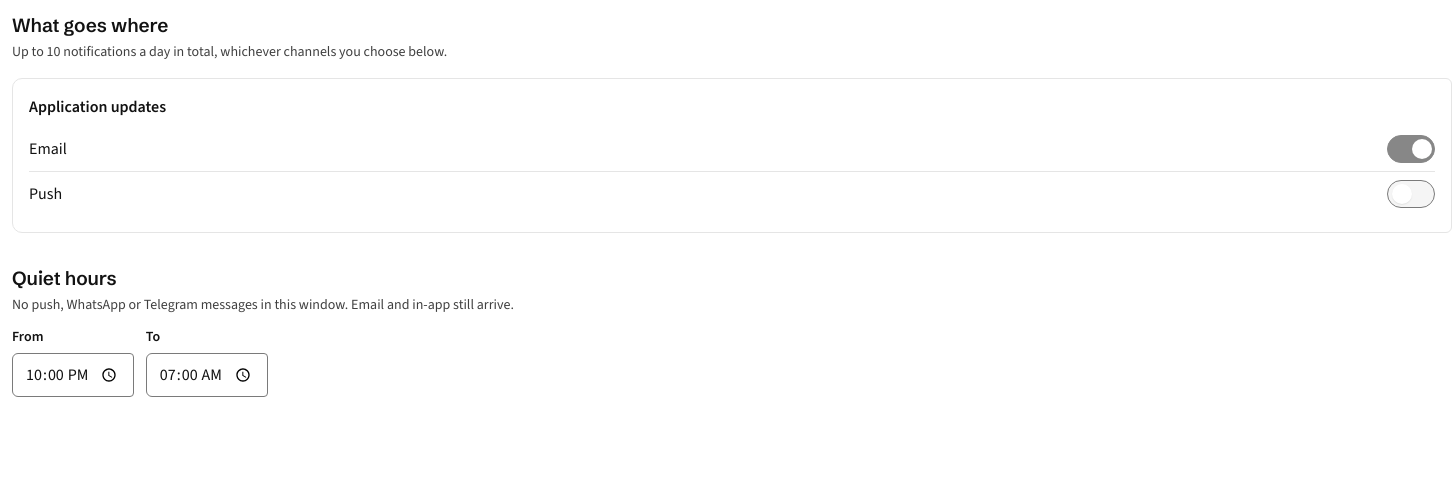
Test case: NotificationsPanel › shows an error when saving a preference fails
What coordinates should you click on to do the following:
click the 2nd switch named "Push"
I would click on:
 (1411, 194)
Its box is [1387,180,1435,208].
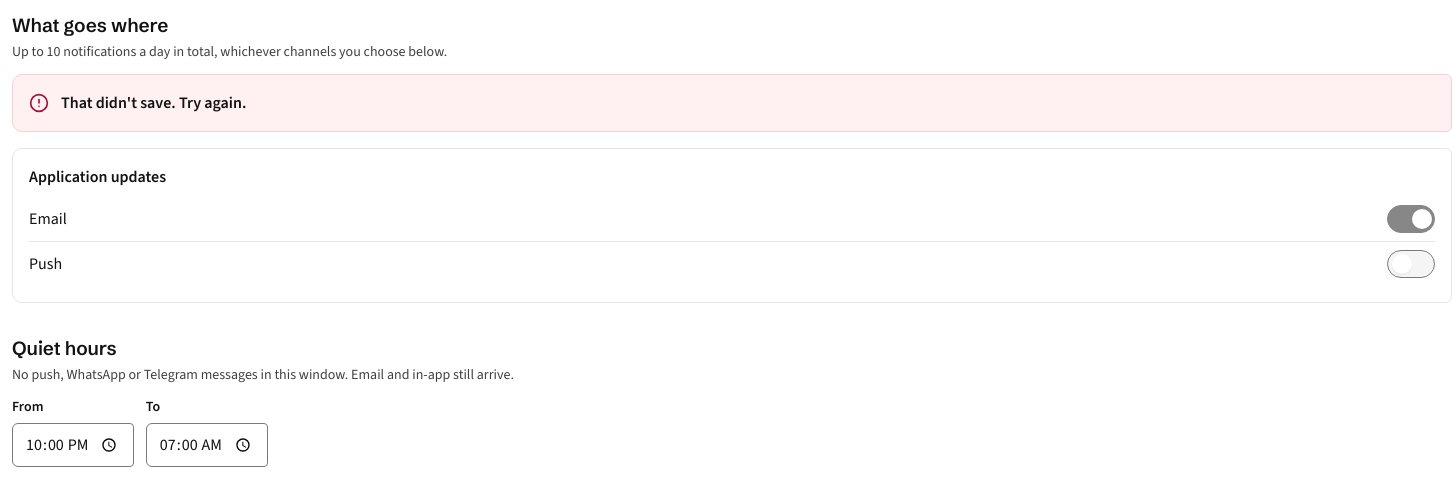
Check: the text "That didn't save. Try again." is shown, box [61,92,246,113]
